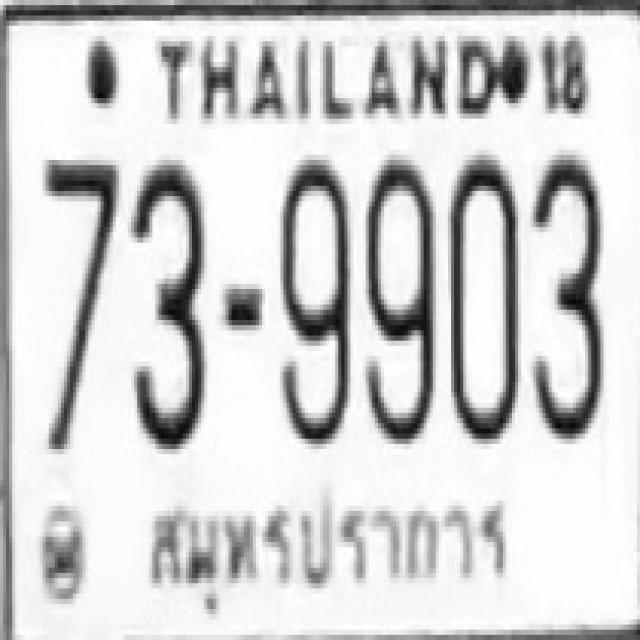0: (448, 150, 518, 438)
3: (128, 158, 204, 446), (529, 152, 602, 436)
7: (40, 155, 119, 449)
9: (362, 152, 432, 442), (278, 152, 348, 442)
SamutPrakan: (135, 482, 524, 617)
